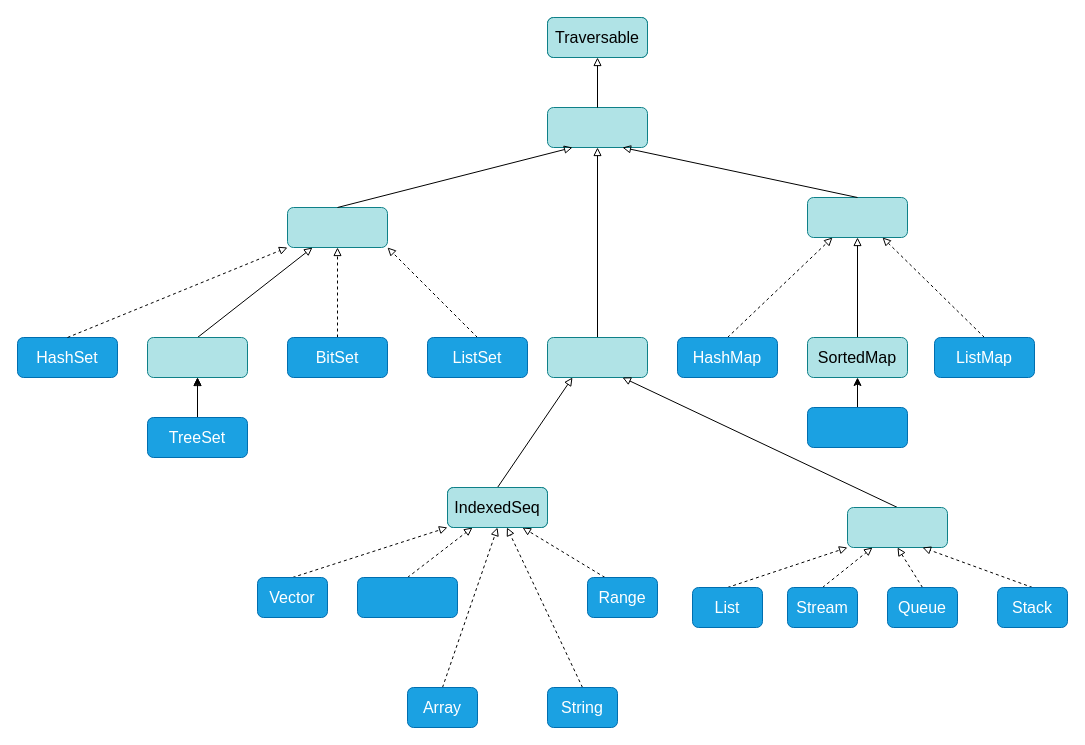
The diagram is 1085 pixels wide and 745 high, and some of its shapes have lost their labels. Each missing label, with the box of its shape:
Iterable: (546, 106, 648, 148)
LinearSeq: (846, 506, 948, 548)
Map: (806, 196, 908, 238)
NumericRange: (356, 576, 458, 618)
Seq: (546, 336, 648, 378)
Set: (286, 206, 388, 248)
SortedSet: (146, 336, 248, 378)
TreeMap: (806, 406, 908, 448)
